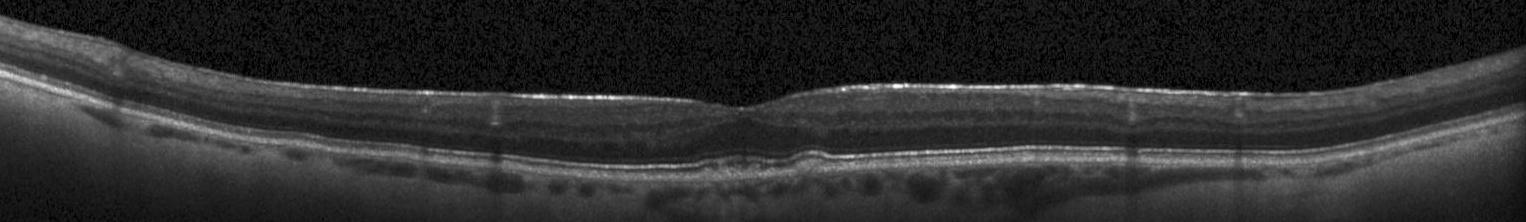retinal_drusen: (796, 162, 829, 175), (691, 171, 718, 182), (747, 165, 760, 177), (717, 170, 730, 180), (728, 169, 742, 178), (766, 168, 781, 176)
